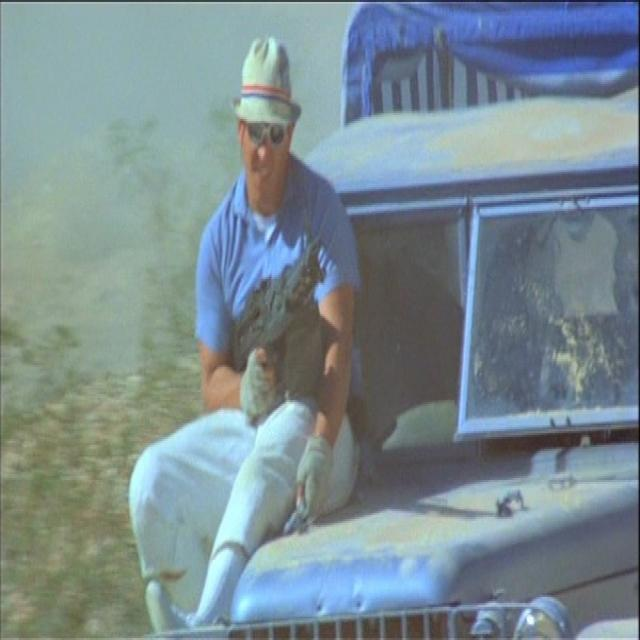rifle: (232, 226, 333, 379)
